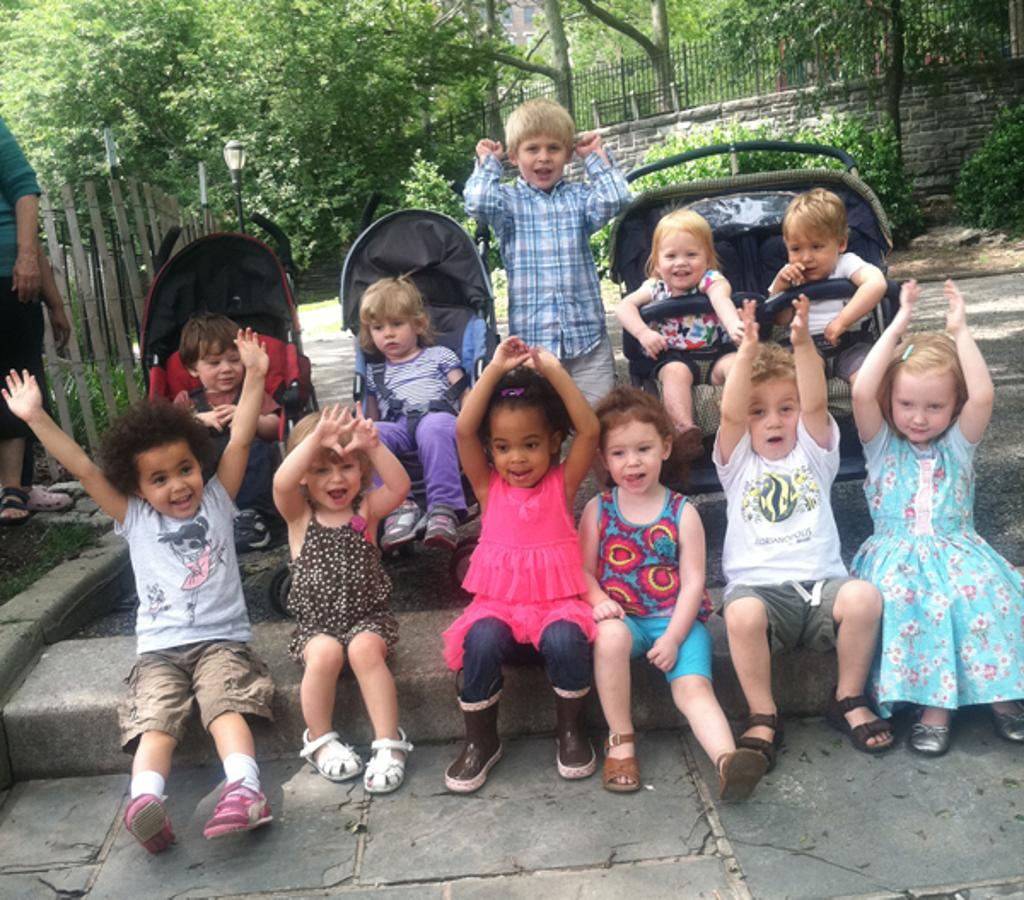face: (140, 451, 204, 518), (489, 419, 552, 487), (745, 389, 804, 457), (891, 379, 955, 441), (308, 446, 362, 508), (604, 436, 663, 491), (516, 132, 565, 187), (787, 226, 838, 278), (660, 237, 706, 287), (199, 346, 244, 389), (370, 311, 416, 353)
